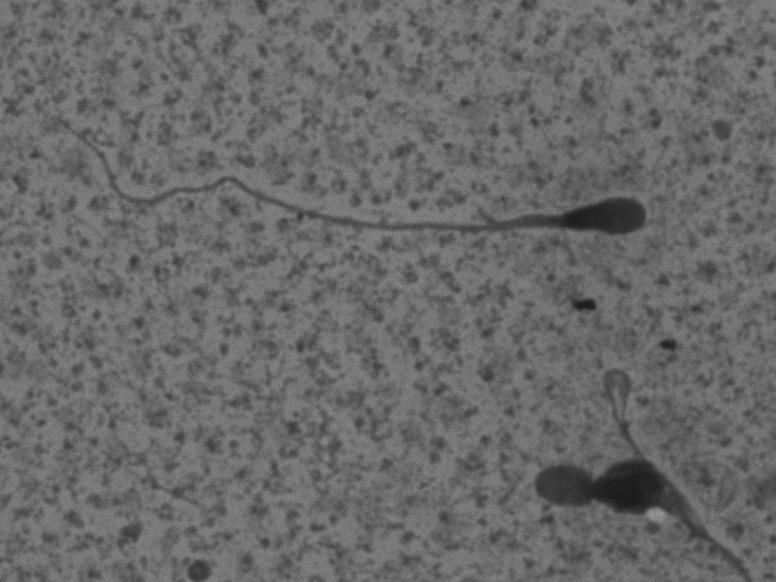Abnormal: (42, 105, 676, 272), (581, 363, 761, 571)
